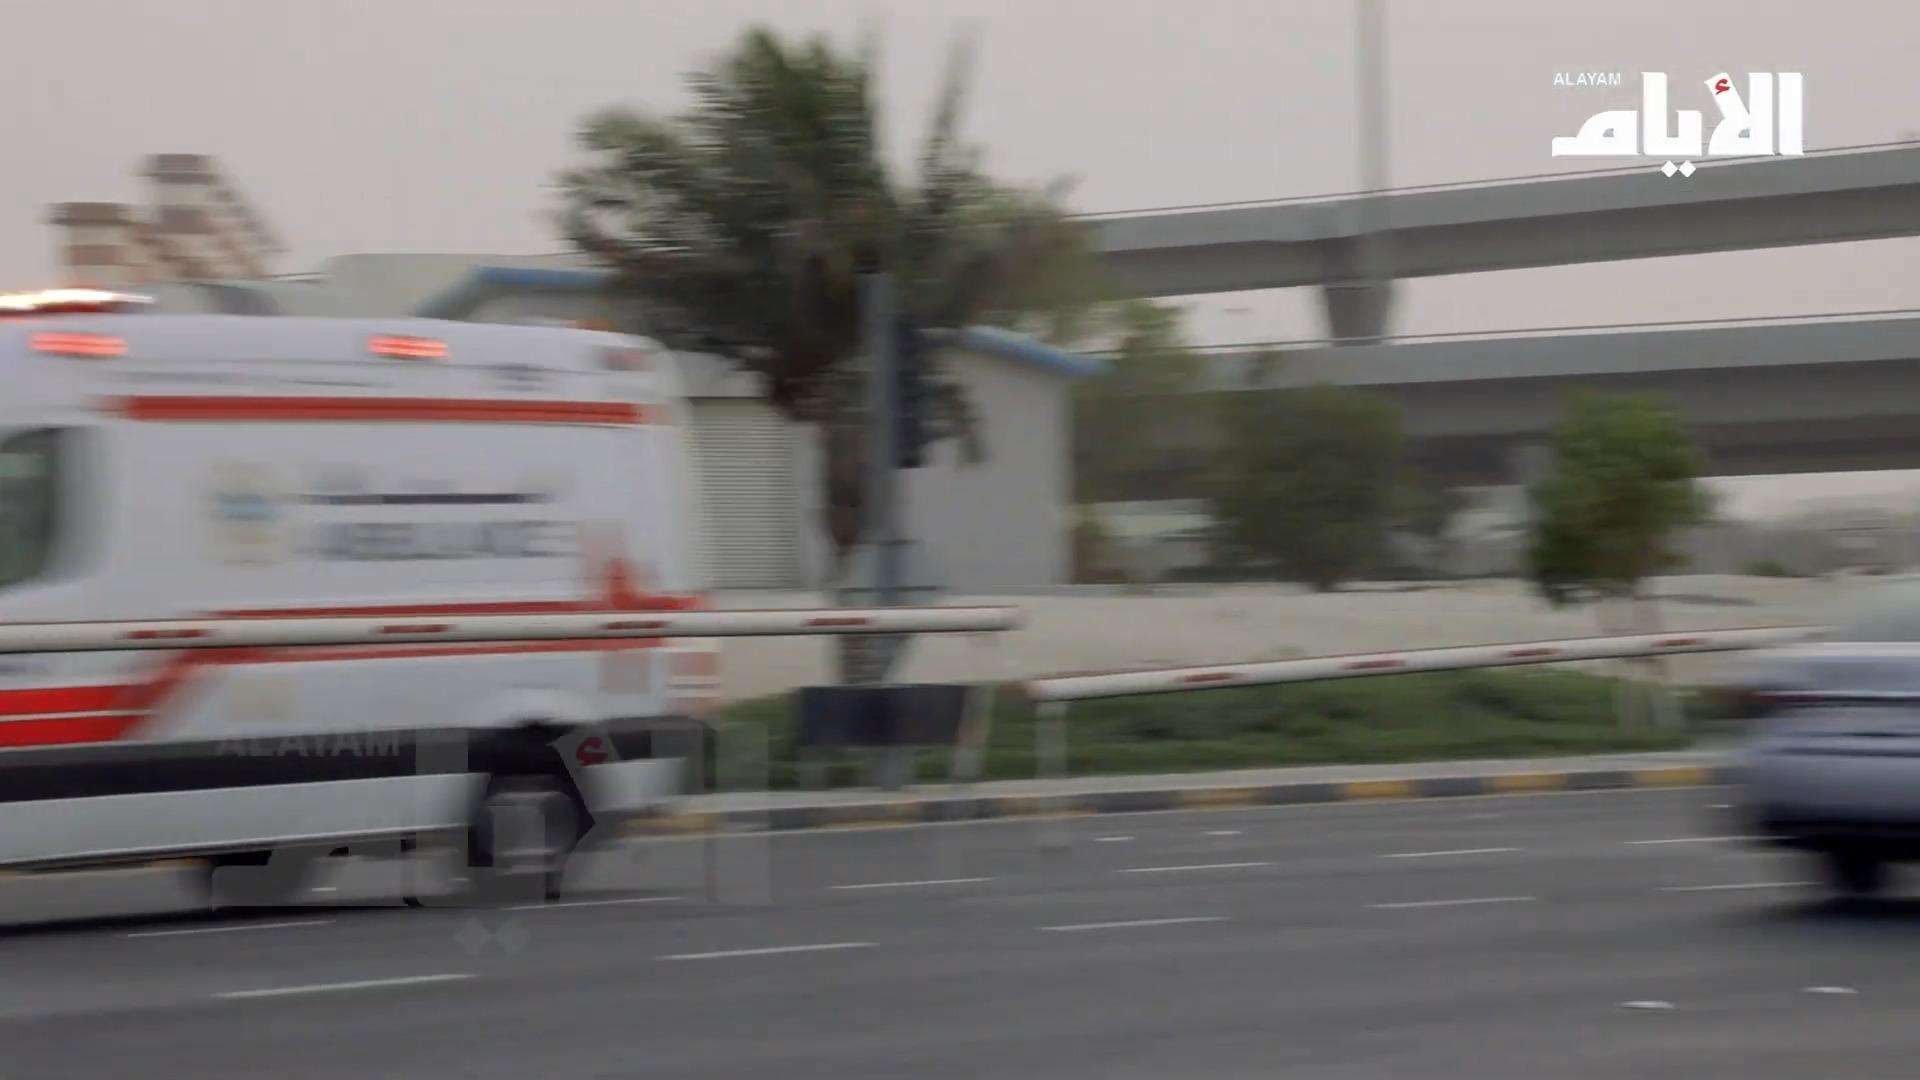ambulance_on: (0, 285, 711, 918)
